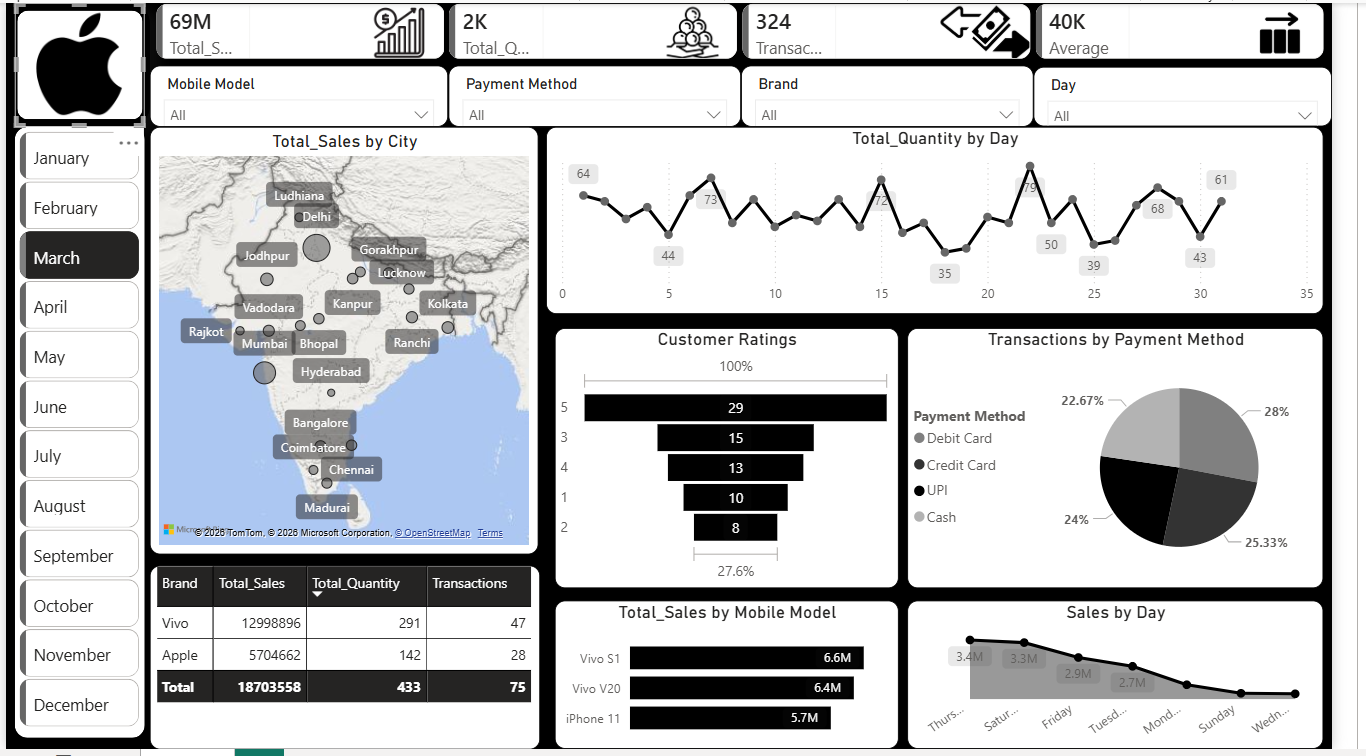

The dashboard page shown, as its layout file describes it:
{"tool":"powerbi","page":{"name":"Page 1","canvas":[1280,720],"ordinal":0},"visuals":[{"type":"shape","box":[3.6,0,135.1,119.4],"z":0},{"type":"shape","box":[8.4,119.4,125.5,589.9],"z":1000},{"type":"advancedSlicerVisual","fields":{"Values":["Sales_data.Date.Variation.Date Hierarchy.Month"]},"box":[8.4,119.4,125.5,589.9],"z":2000},{"type":"image","box":[8.4,0,125.5,119.4],"z":3000},{"type":"cardVisual","fields":{"Data":["Sales_data.Total_Sales","Sales_data.Total_Quantity","Sales_data.Transactions","Sales_data.Average"]},"box":[138.7,0,1141.3,60.3],"z":4000},{"type":"map","fields":{"Category":["Sales_data.City"],"Size":["Sales_data.Total_Sales"]},"box":[138.7,119.4,375.2,412.6],"z":5000},{"type":"lineChart","fields":{"Y":["Sales_data.Total_Quantity"],"Category":["Sales_data.Date.Variation.Date Hierarchy.Day"]},"box":[521.2,119.4,750.4,181],"z":6000},{"type":"barChart","fields":{"Category":["Sales_data.Mobile Model"],"Y":["Sales_data.Total_Sales"]},"box":[529.6,576.7,331.8,143.6],"z":7000},{"type":"pieChart","fields":{"Category":["Sales_data.Payment Method"],"Y":["Sales_data.Transactions"]},"box":[869.8,313.7,401.7,250.9],"z":8000},{"type":"funnel","title":"Customer Ratings","fields":{"Category":["Sales_data.Customer Ratings"],"Y":["CountNonNull(Sales_data.Customer Ratings)"]},"box":[529.6,313.7,331.8,250.9],"z":9000},{"type":"stackedAreaChart","title":"Sales by Day","fields":{"Y":["Sales_data.Total_Sales"],"Category":["Sales_data.Day Name"]},"box":[869.8,576.7,401.7,143.6],"z":10000},{"type":"tableEx","fields":{"Values":["Sales_data.Brand","Sales_data.Total_Sales","Sales_data.Total_Quantity","Sales_data.Transactions"]},"box":[138.7,542.9,376.4,177.3],"z":11000},{"type":"slicer","fields":{"Values":["Sales_data.Mobile Model"]},"box":[138.7,60.3,288.3,59.1],"z":12000},{"type":"slicer","fields":{"Values":["Sales_data.Payment Method"]},"box":[427.1,60.3,282.3,59.1],"z":13000},{"type":"slicer","fields":{"Values":["Sales_data.Brand"]},"box":[709.4,60.3,282.3,59.1],"z":14000},{"type":"slicer","fields":{"Values":["Sales_data.Day Name"]},"box":[991.7,61.5,288.3,57.9],"z":15000}]}

Visuals, with their boxes in screenshot pixels (x1, y1, x2, y2), scaled from the page's 1280x720 canvas onto the 1366x756 screenshot:
shape: [4,0,148,125]
shape: [9,125,143,745]
advancedSlicerVisual - Sales_data.Date.Variation.Date Hierarchy.Month: [9,125,143,745]
image: [9,0,143,125]
cardVisual - Sales_data.Total_Sales x Sales_data.Total_Quantity: [148,0,1365,63]
map - Sales_data.City x Sales_data.Total_Sales: [148,125,548,559]
lineChart - Sales_data.Total_Quantity x Sales_data.Date.Variation.Date Hierarchy.Day: [556,125,1357,315]
barChart - Sales_data.Mobile Model x Sales_data.Total_Sales: [565,606,919,755]
pieChart - Sales_data.Payment Method x Sales_data.Transactions: [928,329,1357,593]
"Customer Ratings" funnel: [565,329,919,593]
"Sales by Day" stackedAreaChart: [928,606,1357,755]
tableEx - Sales_data.Brand x Sales_data.Total_Sales: [148,570,550,755]
slicer - Sales_data.Mobile Model: [148,63,456,125]
slicer - Sales_data.Payment Method: [456,63,757,125]
slicer - Sales_data.Brand: [757,63,1058,125]
slicer - Sales_data.Day Name: [1058,65,1365,125]
